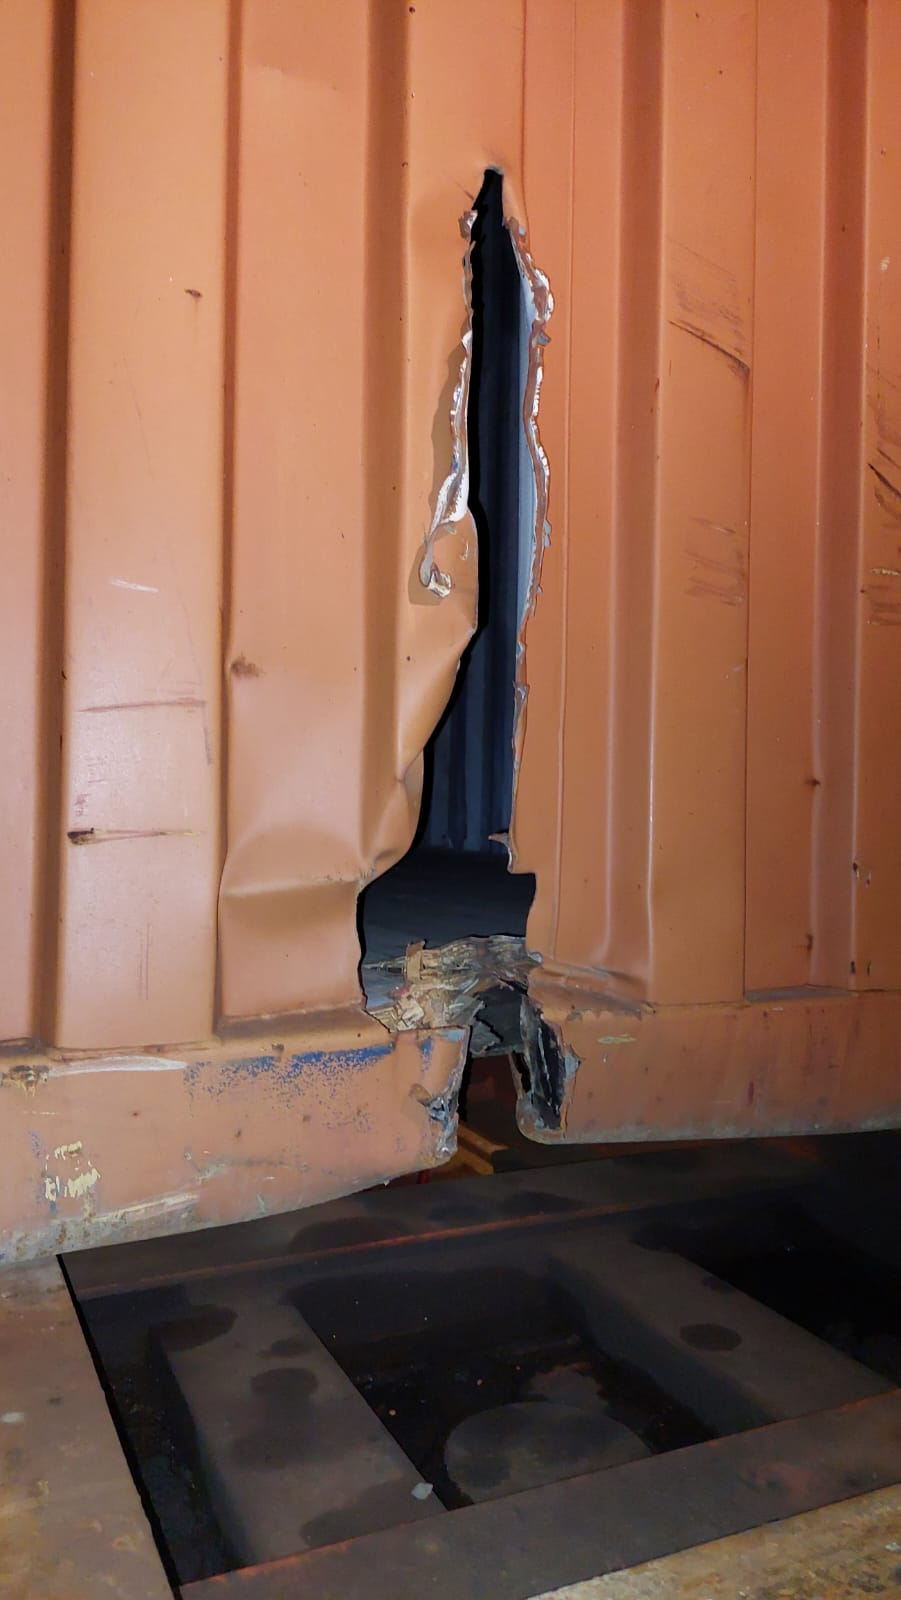cut: (289, 157, 650, 1127)
